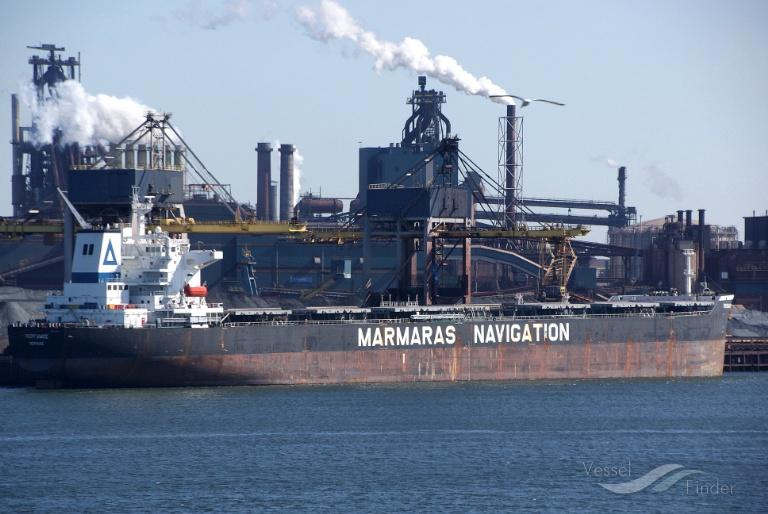OCR: (352, 323, 584, 356)
